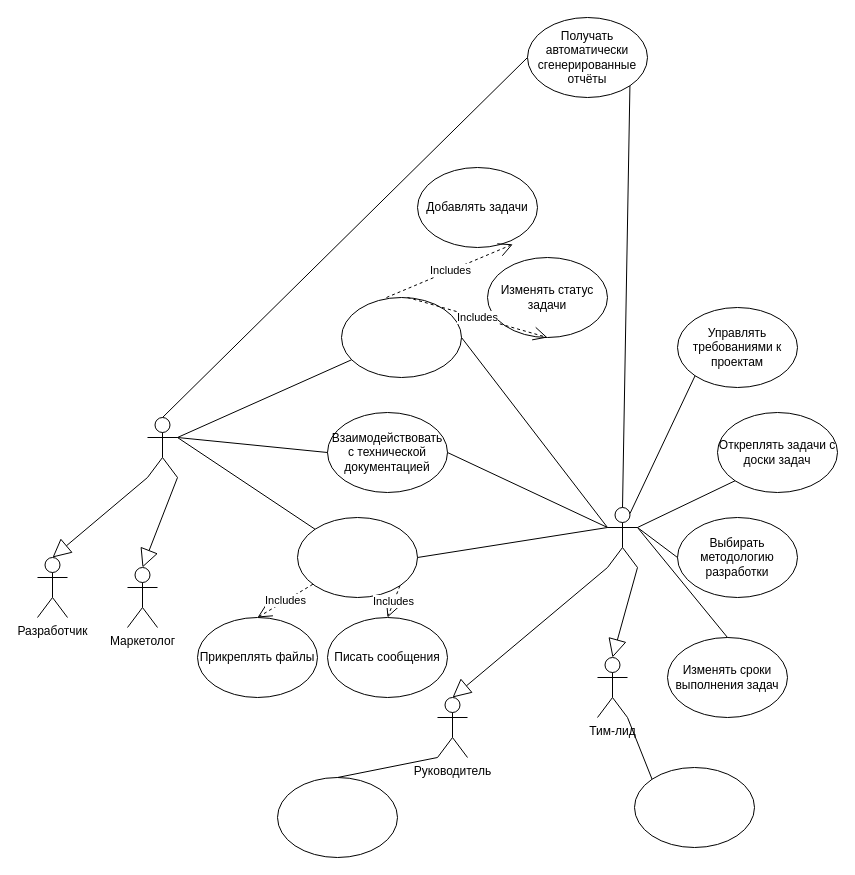
The diagram is 855 pixels wide and 875 high, and some of its shapes have lost their labels. The shapes that lost their labels are listed below. From the top down, each one's centre as x and y in pixels, then its label:
point 401,337: Взаимодействовать с доской задач
point 162,447: Сотрудник
point 357,557: Общаться с другими участниками проекта
point 622,537: Менеджер
point 337,817: Получать статистику работы всех команд
point 694,807: Распределять нагрузку среди разработчиков
